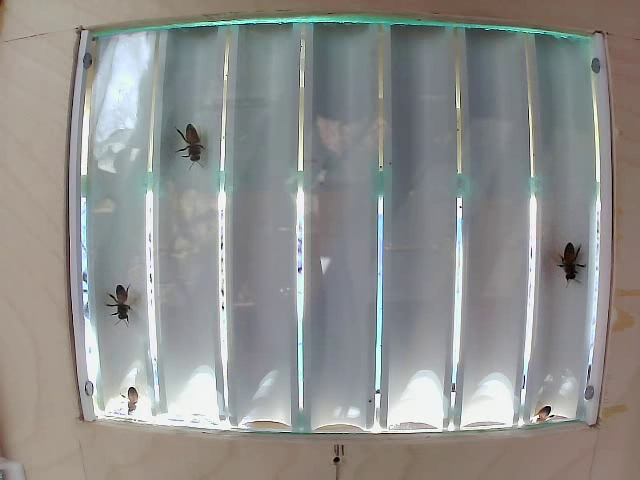bee: (557, 237, 599, 281), (171, 121, 209, 166), (105, 271, 138, 318)
